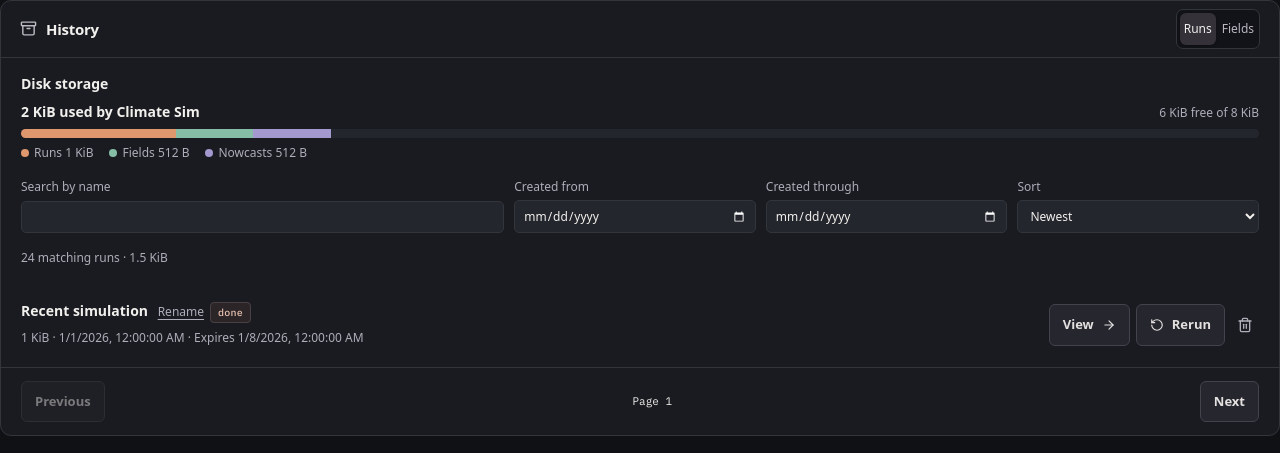
debounces server filters together, preserves the URL and resets pagination
This screenshot has width=1280, height=453.
Expected: the text "24 matching runs · 1.5 KiB" is shown, [21,249,168,266]
Click the button "Next". click: (1229, 402)
box: [1200,381,1259,422]
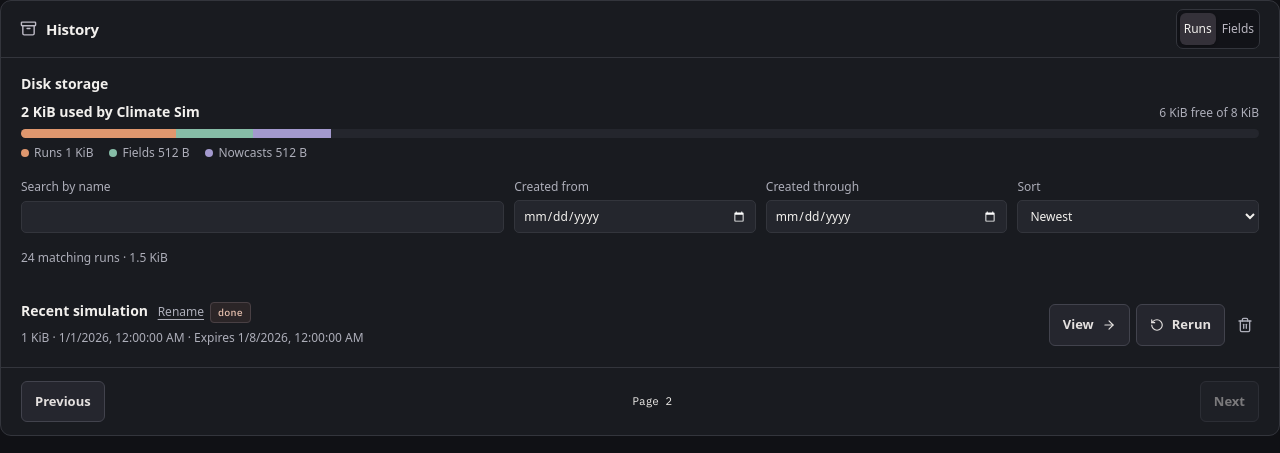
Expected: the text "Page 2" is shown, [632,393,672,410]
Type "Arc" into the search field labelled "Search by name". click: (263, 217)
box: [21,201,504,234]
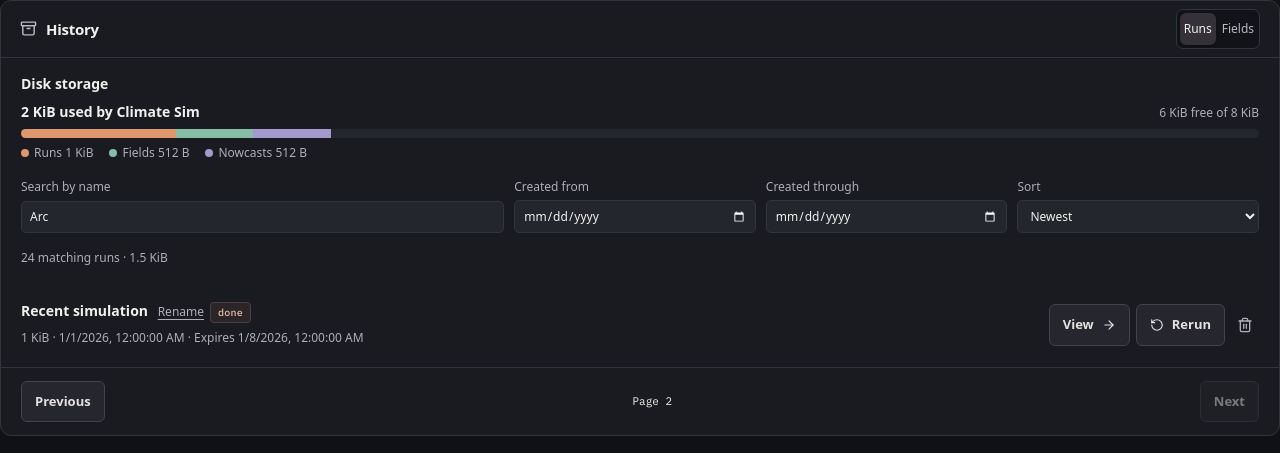
Replace the text in the search field labelled "Search by name" with "Arctic". click: (263, 217)
box: [21,201,504,234]
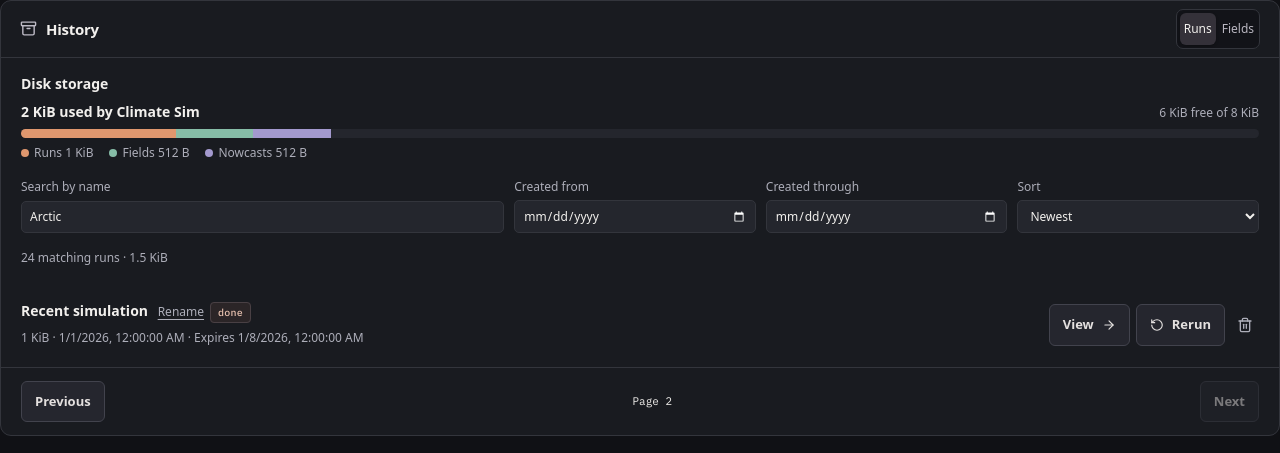
Type "2026-03-28" into the date field labelled "Created from". click: (635, 217)
box: [514,200,756,234]
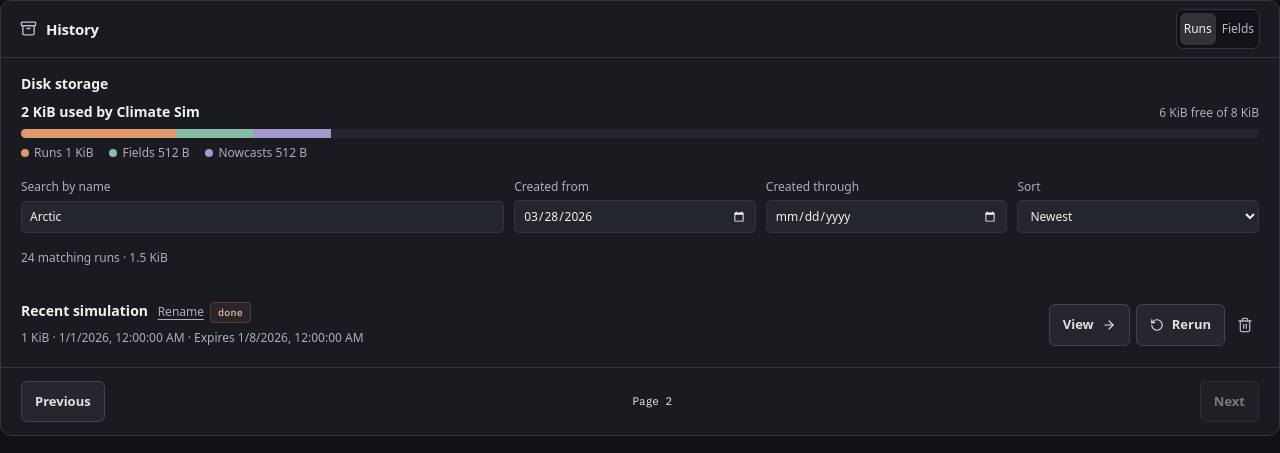
Type "2026-03-29" into the date field labelled "Created through". click: (887, 217)
box: [766,200,1007,234]
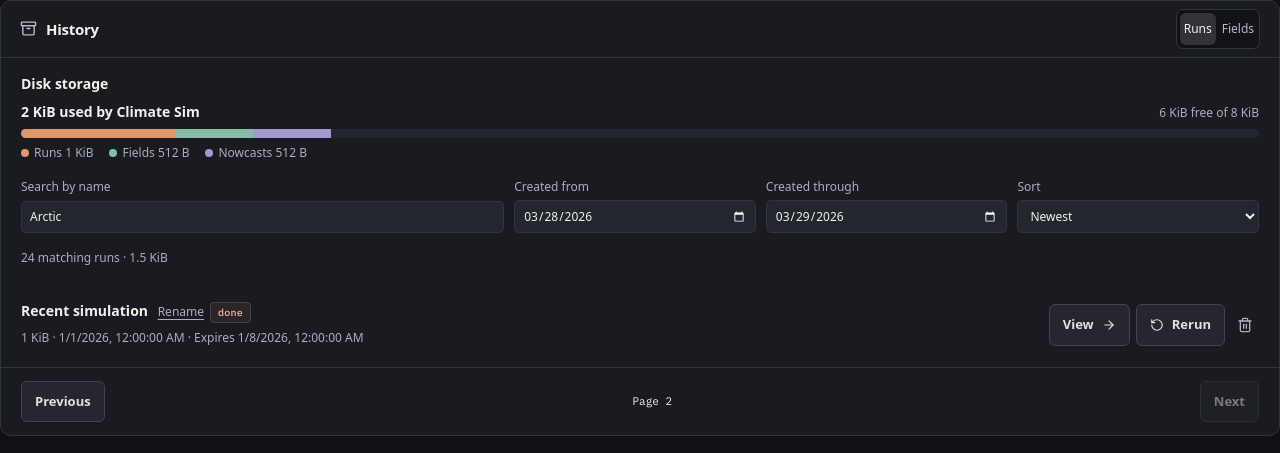
Select "Largest" in the dropdown labelled "Sort". click: (1138, 217)
box: [1017,200,1259,234]
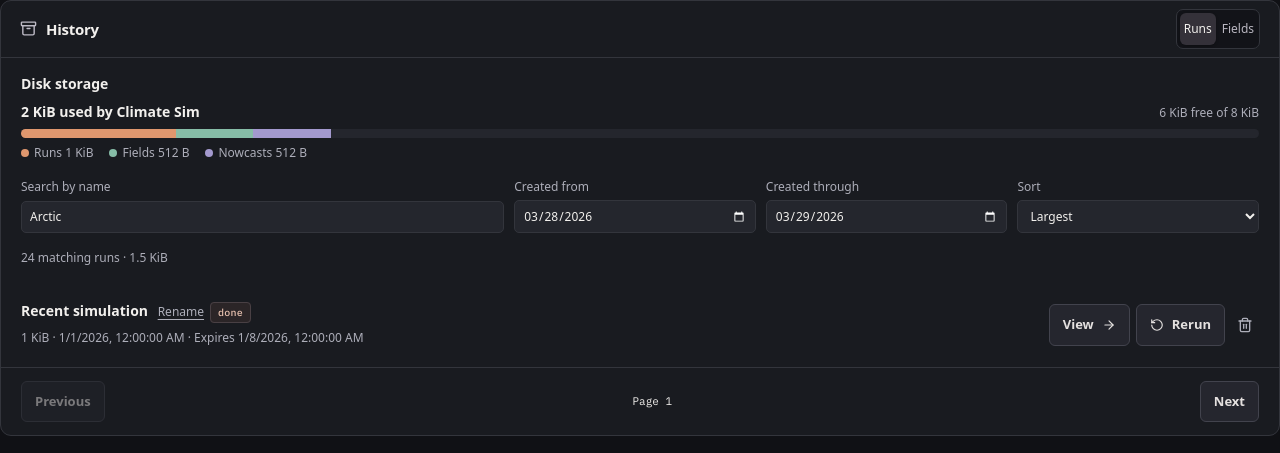
Expected: the text "Page 1" is shown, [632,393,672,410]
